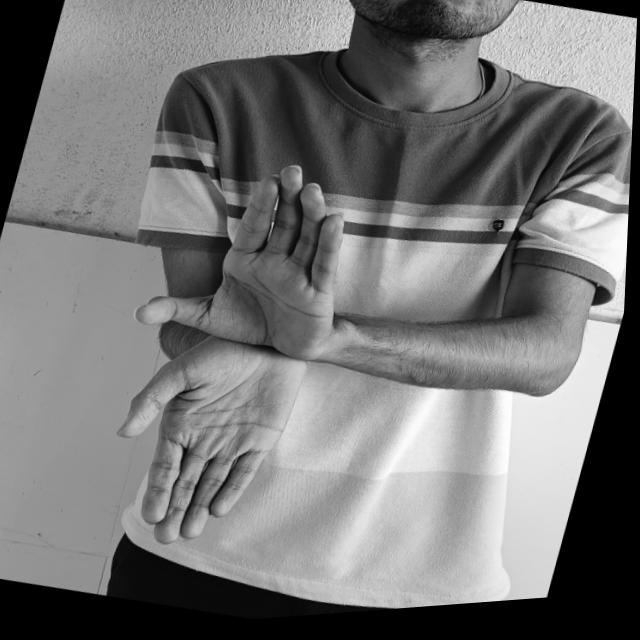Morning: (60, 123, 425, 605)
